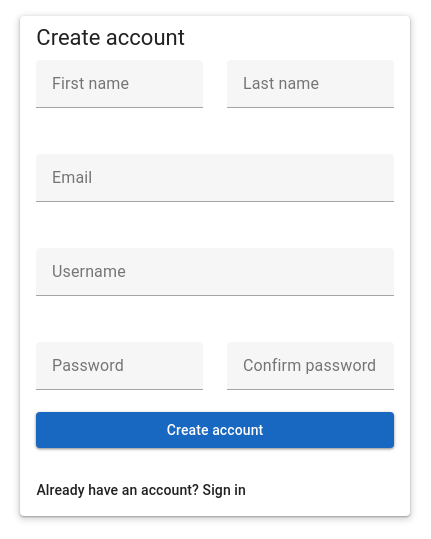
Test: Feature 1 — User Authentication & Session Management › US-1.1 — Registration › User submits registration with missing username
Type "Jane" into the field labelled "First name" at (120, 84), box [36,60,203,108]
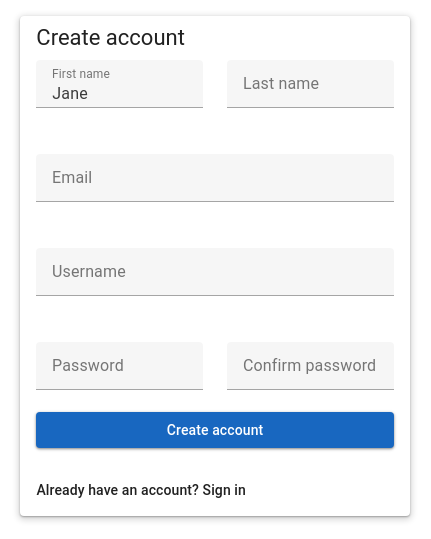
Type "Doe" into the field labelled "Last name" at (310, 84), box [227,60,394,108]
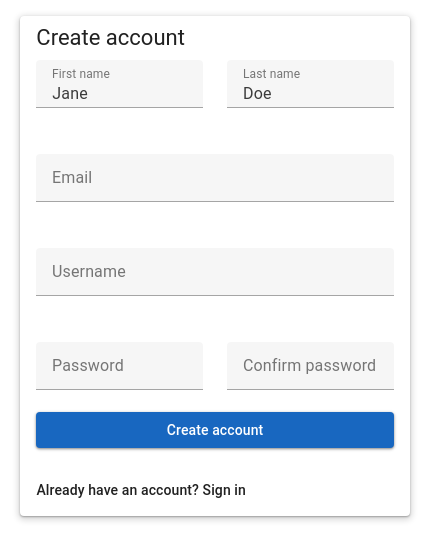
Type "jane@example.com" into the field labelled "Email" at (215, 178), box [36,154,394,202]
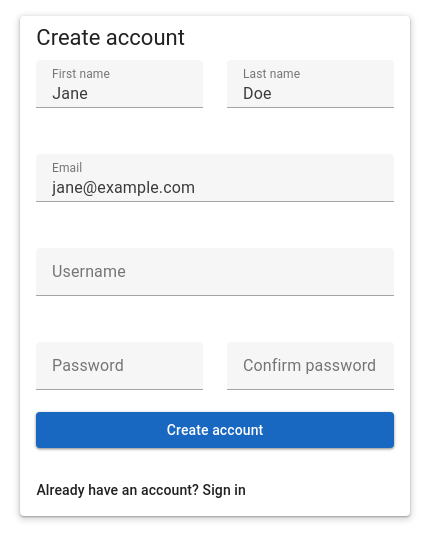
Type "password123" into the password field labelled "Password" at (120, 366), box [36,342,203,390]
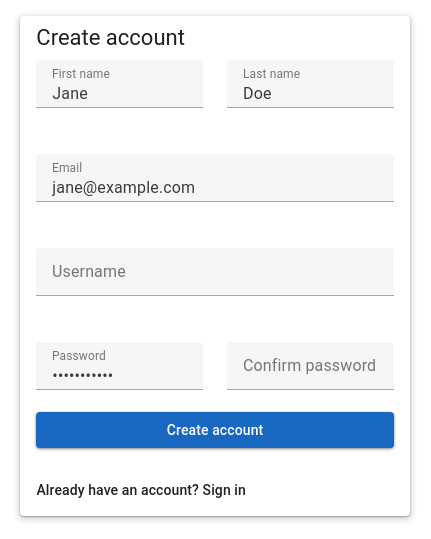
Type "password123" into the password field labelled "Confirm password" at (310, 366), box [227,342,394,390]
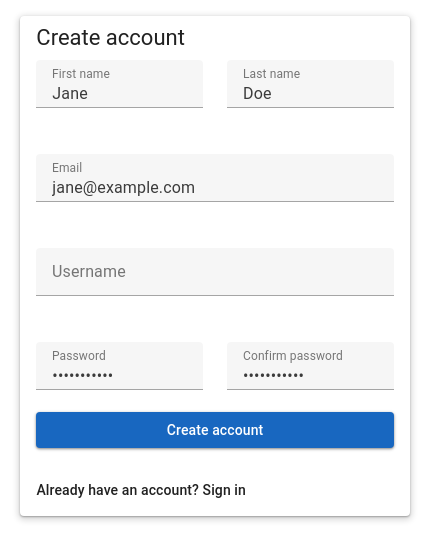
Submit the form, box [36,60,394,448]
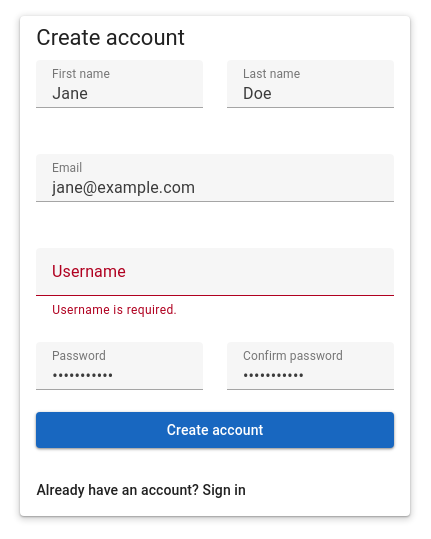
Now the text "Username is required." is shown, box [52,303,177,317]
